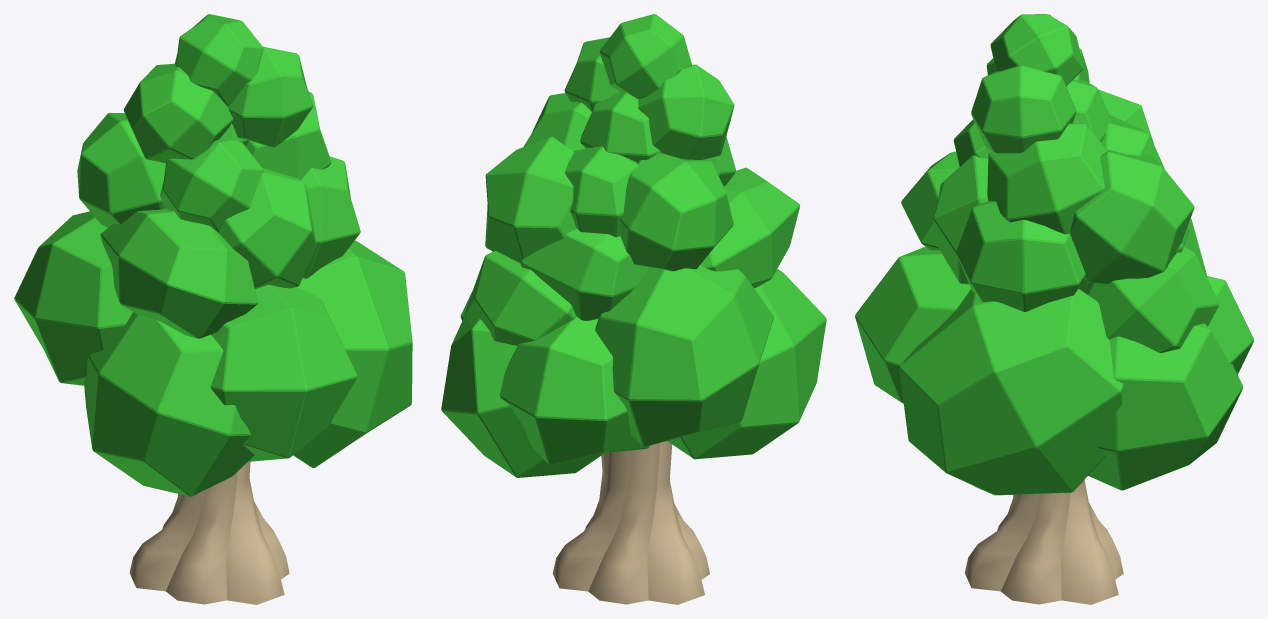
Rendered from TreeCircle.fbx.
3 renders of one model, left to right at view 1: azimuth 30°, elevation 25°; view 2: azimuth 150°, elevation 25°; view 3: azimuth 270°, elevation 25°, orthographic.
Parts seen in each view (by area): view 1: Leaf_Cube, TreeTrunk_HighTree_Root_1__WD_LargeTreeShaft_Far_a3.008; view 2: Leaf_Cube, TreeTrunk_HighTree_Root_1__WD_LargeTreeShaft_Far_a3.008; view 3: Leaf_Cube, TreeTrunk_HighTree_Root_1__WD_LargeTreeShaft_Far_a3.008.
Part boxes in pixels (x1,y1,x2,y2): Leaf_Cube: (14,14,412,496); TreeTrunk_HighTree_Root_1__WD_LargeTreeShaft_Far_a3.008: (129,461,289,604); Leaf_Cube: (441,14,826,477); TreeTrunk_HighTree_Root_1__WD_LargeTreeShaft_Far_a3.008: (552,441,709,604); Leaf_Cube: (855,14,1253,495); TreeTrunk_HighTree_Root_1__WD_LargeTreeShaft_Far_a3.008: (964,480,1123,604).
Bounding box in the file's own units: 612 × 1030 × 668.
